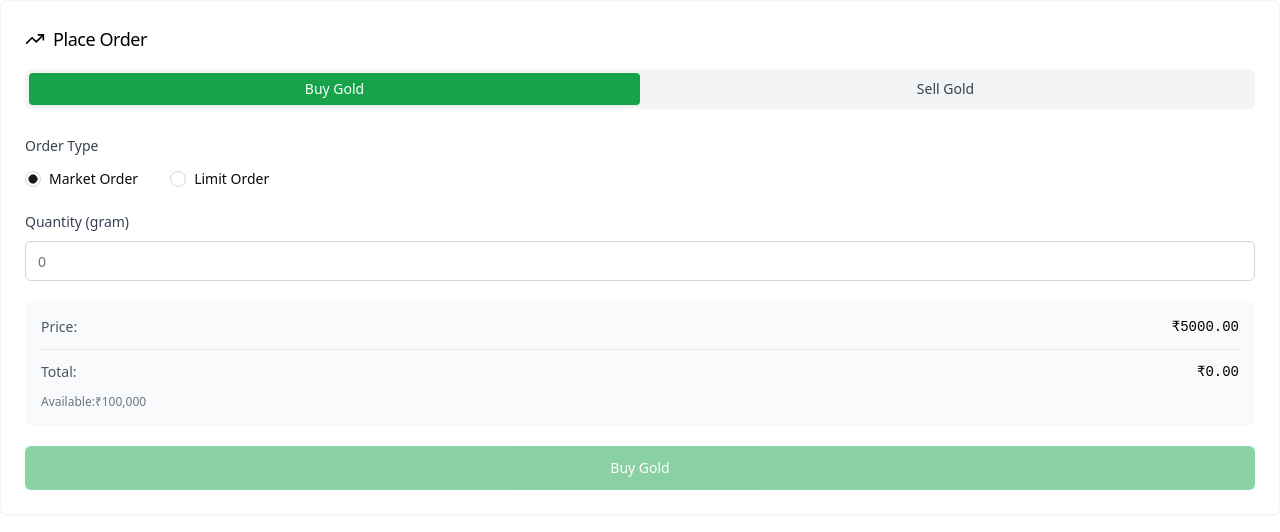
Scenario: TradingForm › validates gold quantity only accepts integers
Type "5a" into the number field labelled "Quantity (gram)".
click(640, 261); type("5a")  # box [25, 241, 1255, 281]
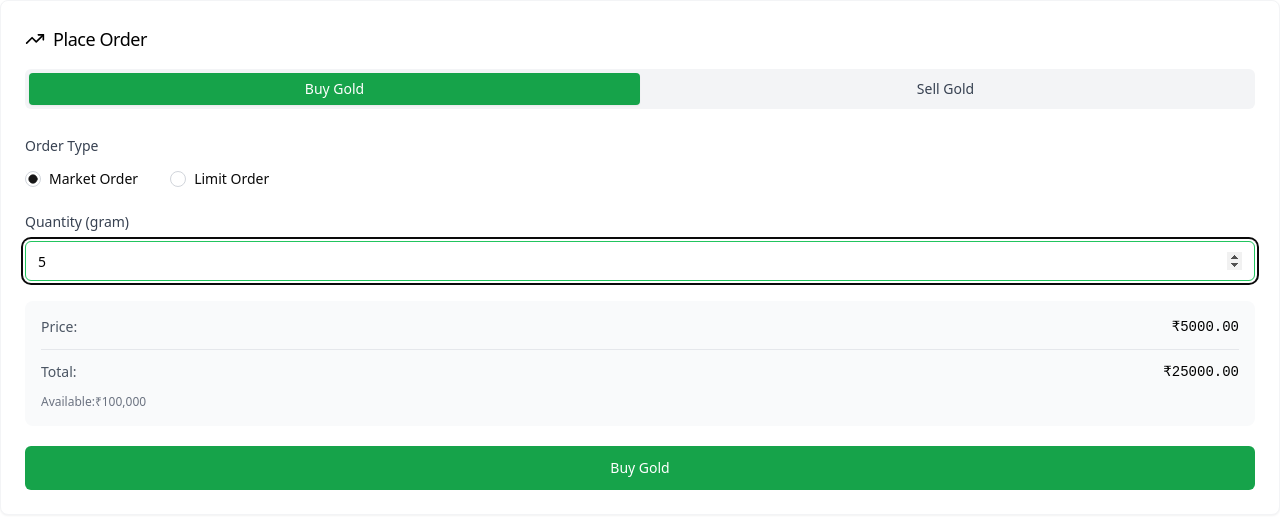
Result: the number field labelled "Quantity (gram)" holds "5" at [25, 241, 1255, 281]
